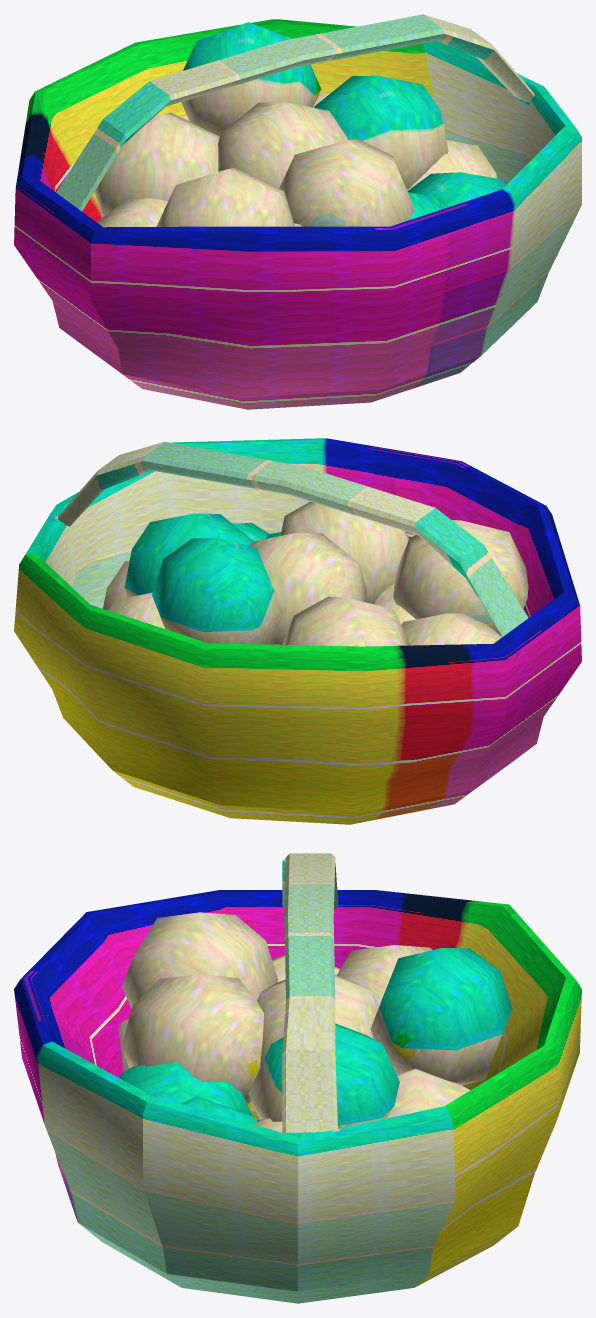
File: Cesto.fbx
The picture shows the model from 3 angles, top to bottom: view 1: azimuth 30°, elevation 25°; view 2: azimuth 150°, elevation 25°; view 3: azimuth 270°, elevation 25°; orthographic projection. The views are drawn at different scales.
Visible parts, largest first — view 1: Cylinder001, Mele; view 2: Cylinder001, Mele; view 3: Cylinder001, Mele.
Part boxes in pixels (box(x1,y1,x2,y2)): Cylinder001: box(14, 14, 581, 409); Mele: box(94, 22, 505, 227); Cylinder001: box(14, 438, 581, 824); Mele: box(103, 501, 528, 646); Cylinder001: box(14, 853, 581, 1303); Mele: box(118, 912, 512, 1132).
Bounding box in the file's own units: 45.2 × 23.37 × 41.27.
1 material, 1 textured.
